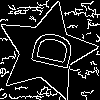D: (21, 26, 75, 72)
